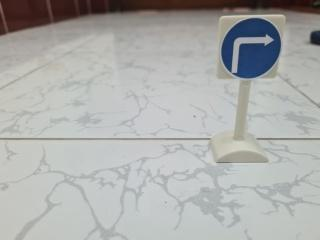right: (209, 5, 293, 84)
